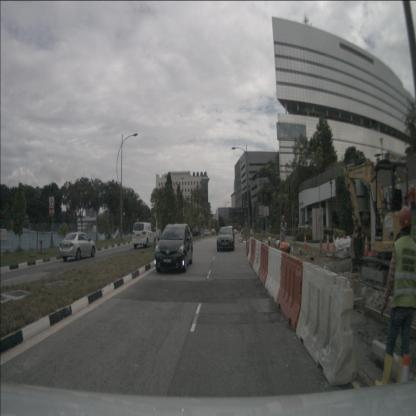barrier: (296, 261, 358, 387), (276, 252, 304, 333), (265, 245, 284, 304), (256, 242, 270, 287), (252, 240, 262, 276), (249, 238, 256, 268), (248, 236, 252, 264)
cone: (397, 352, 414, 416), (370, 234, 376, 258), (331, 234, 338, 253), (363, 235, 369, 257), (325, 233, 331, 252), (303, 233, 308, 252), (319, 234, 324, 251)
